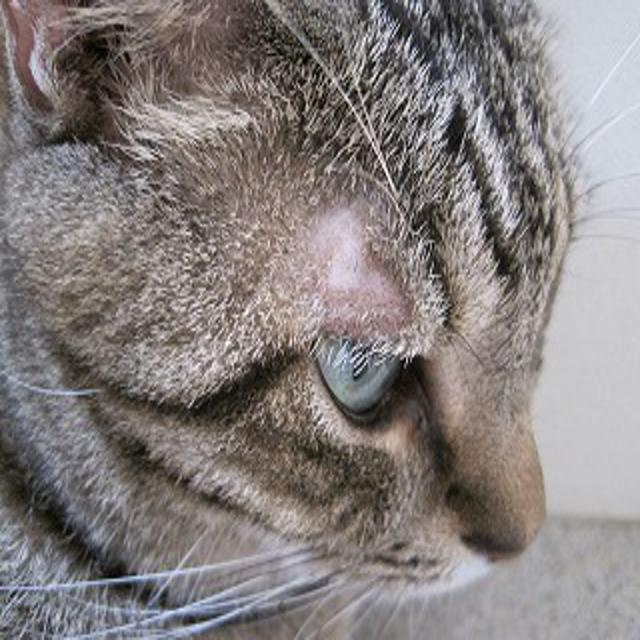hairloss: (320, 198, 389, 306)
